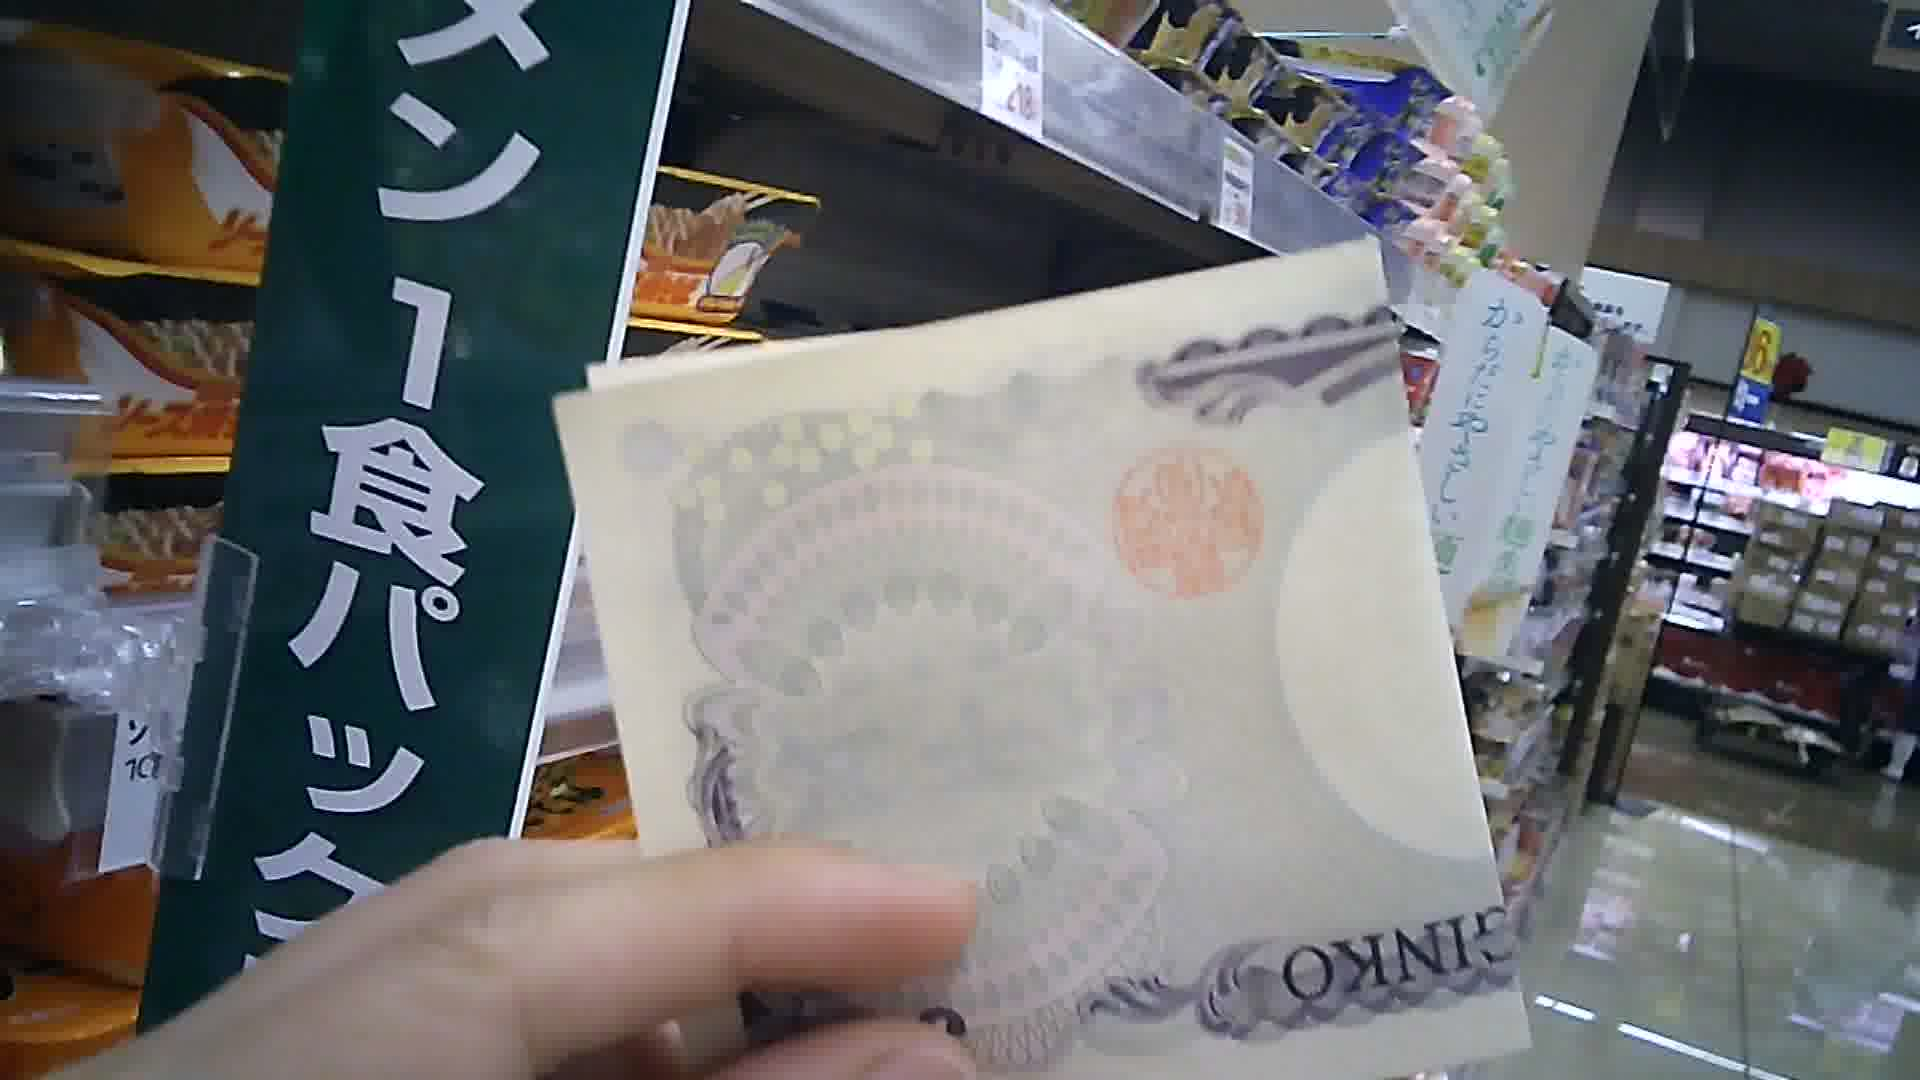5,000 Yen: (556, 207, 1547, 1071)
